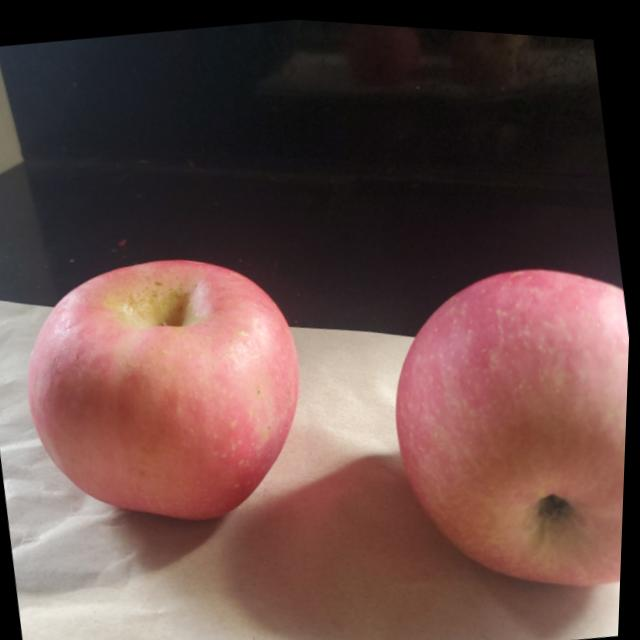apple: (5, 236, 327, 553), (371, 241, 634, 616)
